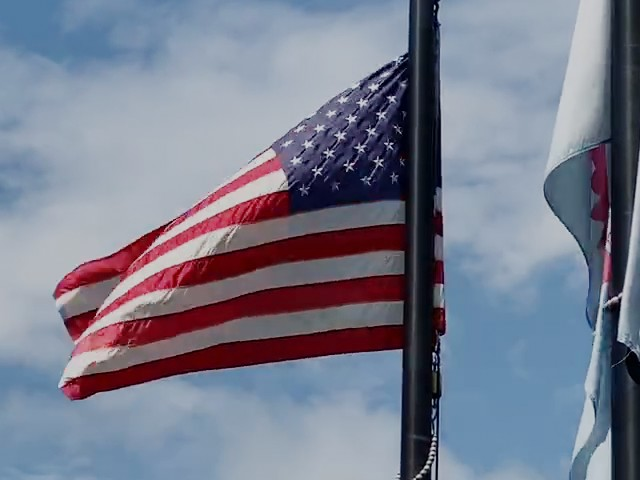America flag: (55, 53, 409, 405)
